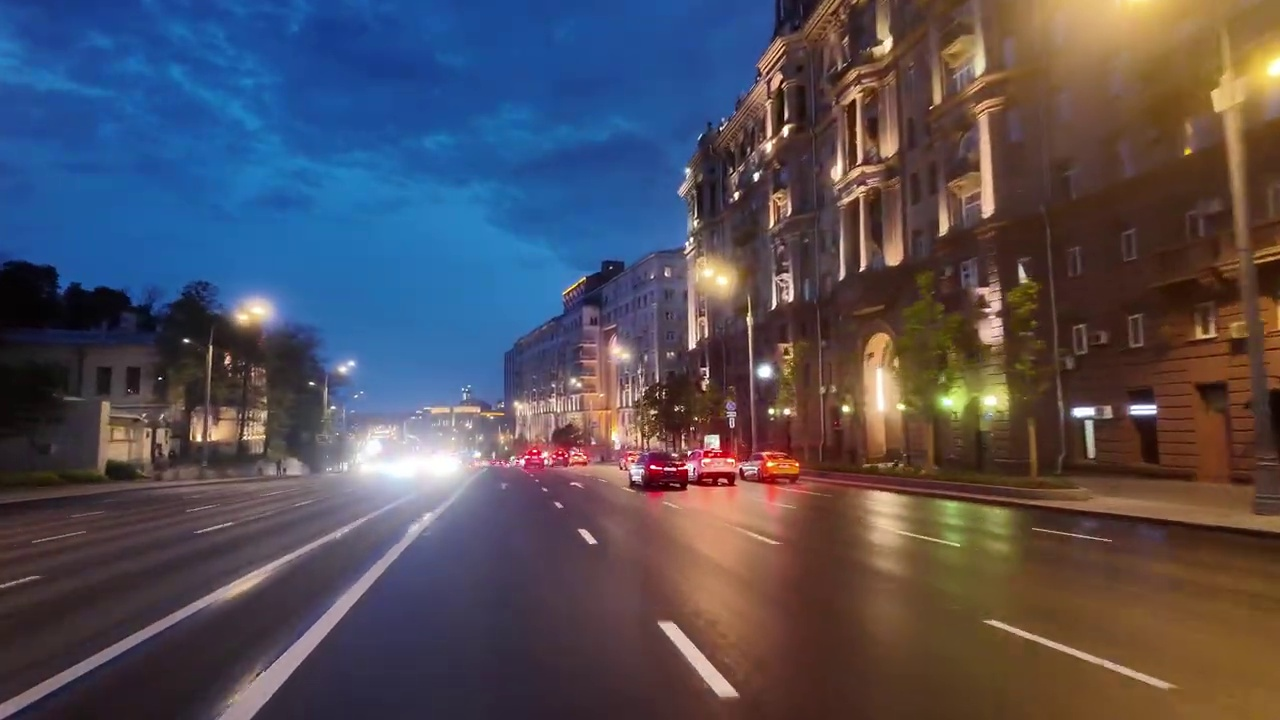acesa: (696, 261, 738, 297), (1248, 47, 1279, 92), (235, 299, 270, 329), (333, 357, 356, 379)
